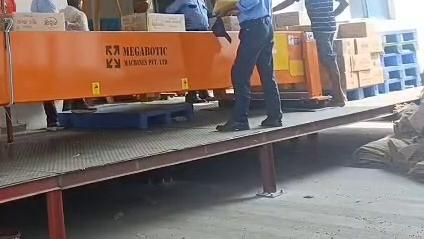box: (0, 12, 65, 31), (121, 13, 185, 31), (337, 21, 378, 37), (357, 66, 384, 87), (273, 11, 301, 29), (353, 36, 382, 53), (340, 70, 358, 90), (350, 54, 371, 71), (334, 39, 355, 56), (340, 72, 359, 90), (337, 55, 353, 71), (221, 16, 239, 30), (286, 25, 311, 31)
